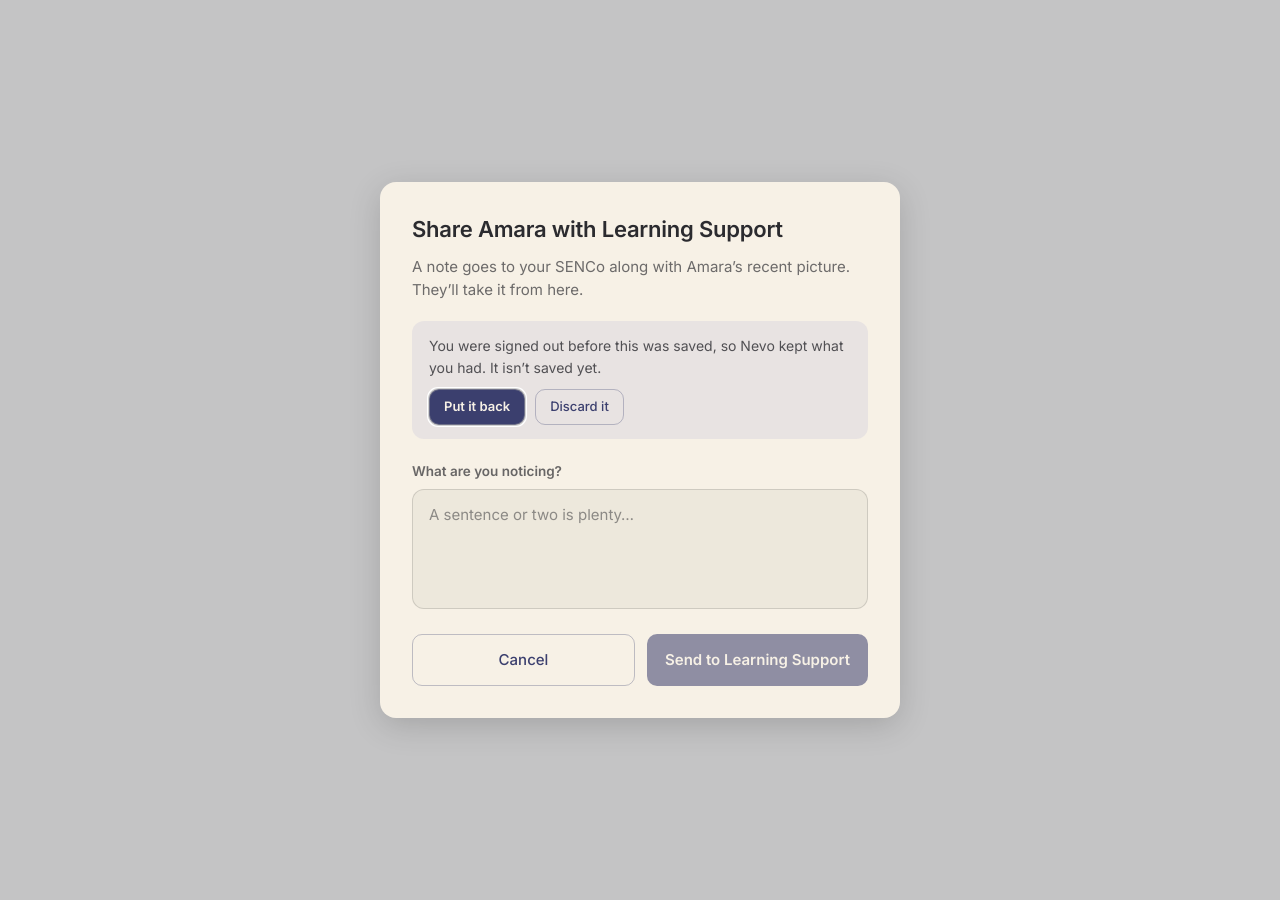
Test case: a note from before the session lapsed › goes back in the box when the teacher puts it back
Click the button "Put it back" at (477,407), box 429,389 -> 525,425
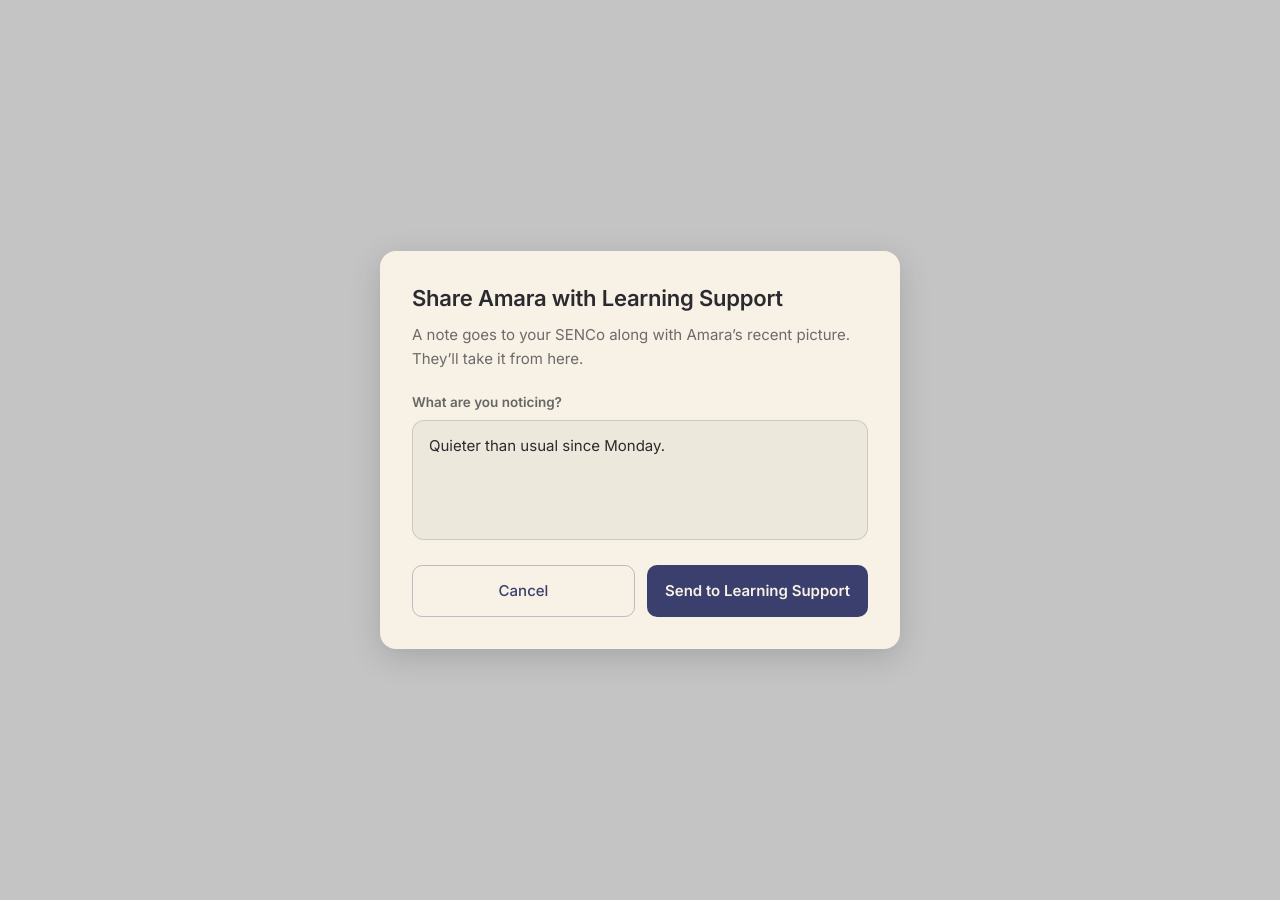
Now the text box holds "Quieter than usual since Monday.", box 412,420 -> 868,540
Now the text "You were signed out before this was saved" is gone
